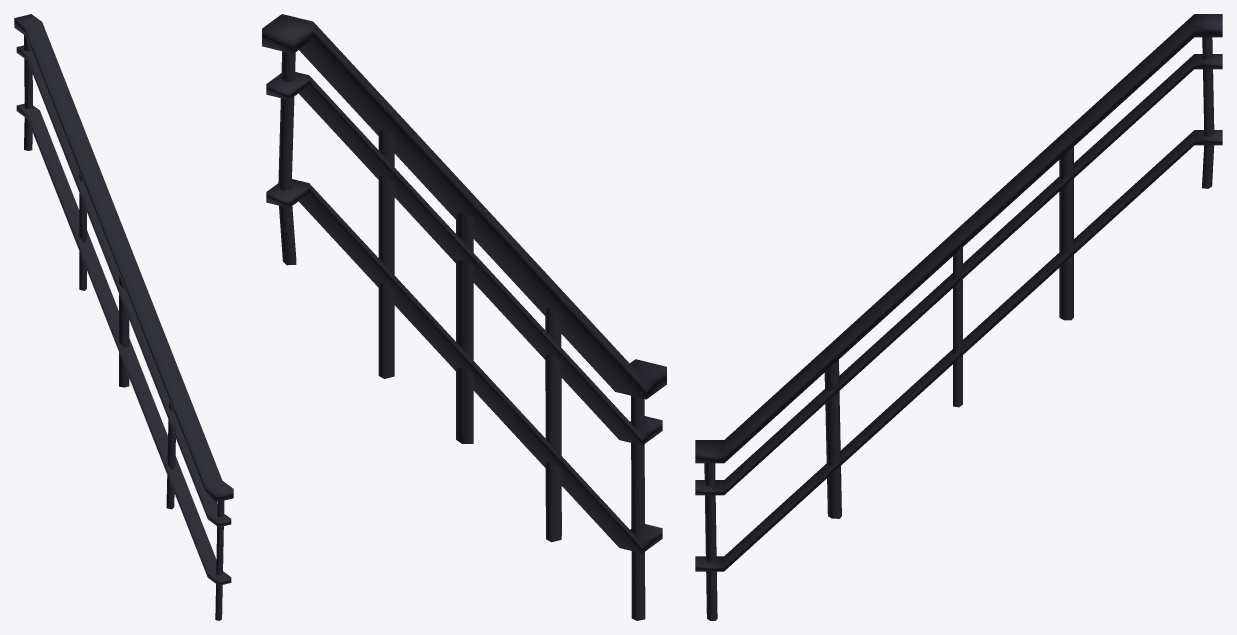
File: SM_Bld_House_Stairs_04_Railing_01.fbx
3 renders of one model, left to right at view 1: azimuth 30°, elevation 25°; view 2: azimuth 150°, elevation 25°; view 3: azimuth 270°, elevation 25°, orthographic. The views are drawn at different scales.
Parts seen in each view (by area): view 1: SM_Bld_House_Stairs_04_Railing_01_Outline; view 2: SM_Bld_House_Stairs_04_Railing_01_Outline; view 3: SM_Bld_House_Stairs_04_Railing_01_Outline.
Part boxes in pixels (x1=…): SM_Bld_House_Stairs_04_Railing_01_Outline: x1=14, y1=14, x2=233, y2=620; SM_Bld_House_Stairs_04_Railing_01_Outline: x1=262, y1=14, x2=666, y2=620; SM_Bld_House_Stairs_04_Railing_01_Outline: x1=695, y1=14, x2=1222, y2=620.
Bounding box in the file's own units: 13.59 × 352 × 280.
